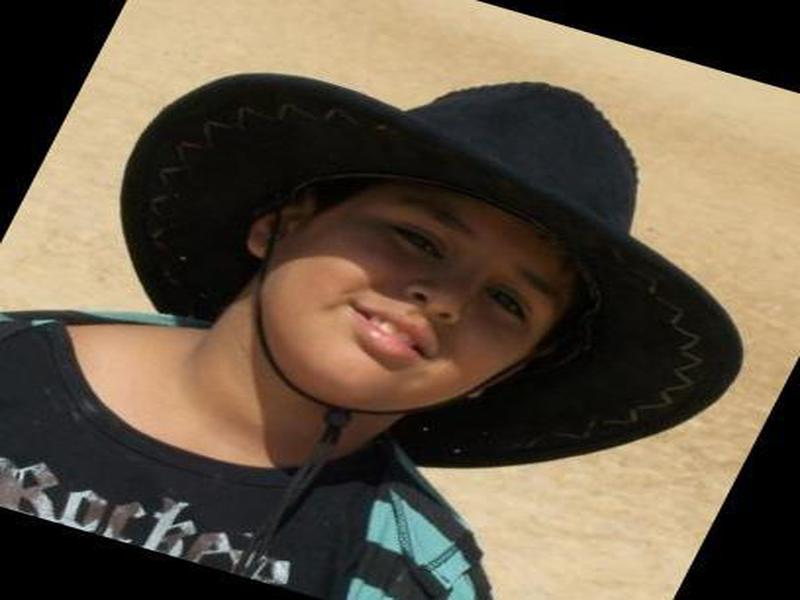without_mask: (259, 170, 549, 410)
